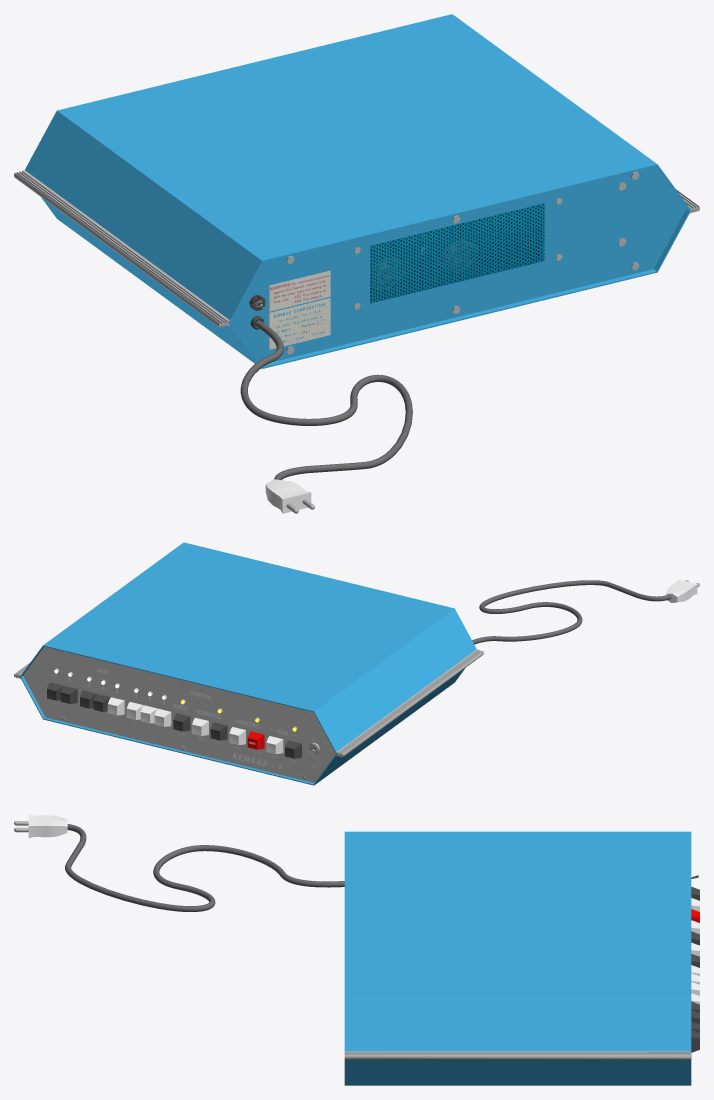
The model's file is kenbak-1__first_personal_computer.glb.
The picture shows the model from 3 angles, top to bottom: view 1: azimuth 30°, elevation 25°; view 2: azimuth 150°, elevation 25°; view 3: azimuth 270°, elevation 25°; orthographic projection. The views are drawn at different scales.
Visible parts, largest first — view 1: BaseTop, inside_1, Cube_17, BaseBottom, Powercord_2, Cube_20, Cube_1, Cube, PowerCordAdapter; view 2: BaseTop, inside, Powercord_2, BaseBottom, Cube_20, Plane, PowerCordAdapter; view 3: BaseTop, BaseBottom, Powercord_2, Cube_22, PowerCordAdapter.
Part boxes in pixels (left/top/right/bottom): BaseTop: left=25, top=14, right=690, bottom=322; inside_1: left=230, top=166, right=686, bottom=362; Cube_17: left=370, top=203, right=544, bottom=303; BaseBottom: left=41, top=197, right=690, bottom=368; Powercord_2: left=240, top=320, right=412, bottom=480; Cube_20: left=14, top=170, right=229, bottom=327; Cube_1: left=269, top=298, right=330, bottom=349; Cube: left=269, top=270, right=330, bottom=311; PowerCordAdapter: left=265, top=479, right=311, bottom=513; BaseTop: left=20, top=542, right=476, bottom=753; inside: left=23, top=646, right=335, bottom=782; Powercord_2: left=472, top=580, right=671, bottom=644; BaseBottom: left=20, top=668, right=465, bottom=785; Cube_20: left=336, top=649, right=483, bottom=757; Plane: left=53, top=668, right=317, bottom=769; PowerCordAdapter: left=666, top=579, right=697, bottom=602; BaseTop: left=344, top=831, right=691, bottom=1053; BaseBottom: left=344, top=1054, right=691, bottom=1085; Powercord_2: left=65, top=824, right=344, bottom=911; Cube_22: left=344, top=1051, right=690, bottom=1059; PowerCordAdapter: left=28, top=814, right=67, bottom=837.
Size of the model in its own units: 0.4967 by 0.0849 by 0.5782.
16 materials, 6 textured.
